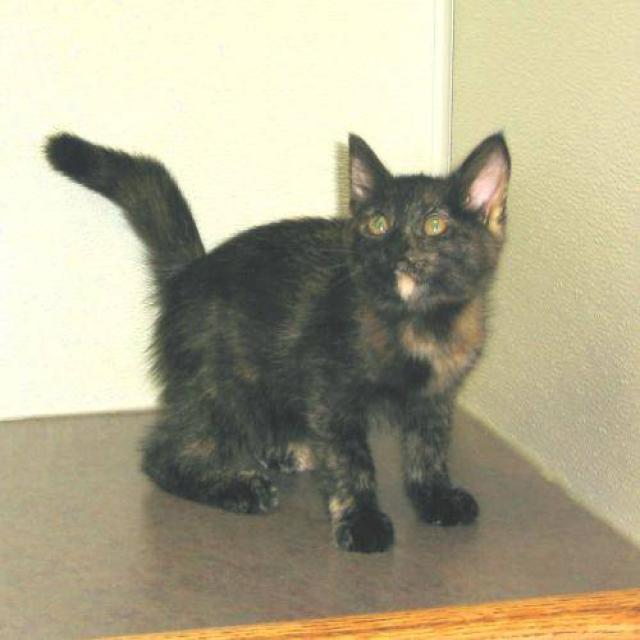cat: (39, 127, 510, 553)
